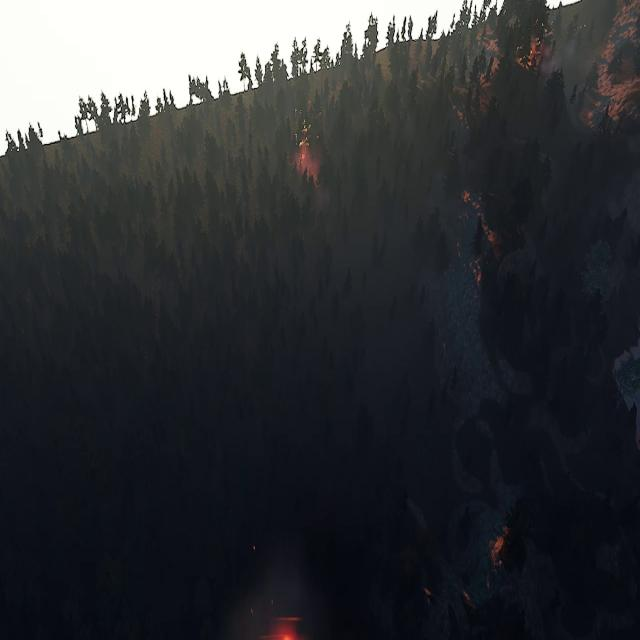fire: (296, 122, 318, 184)
smoke: (216, 559, 336, 638)
